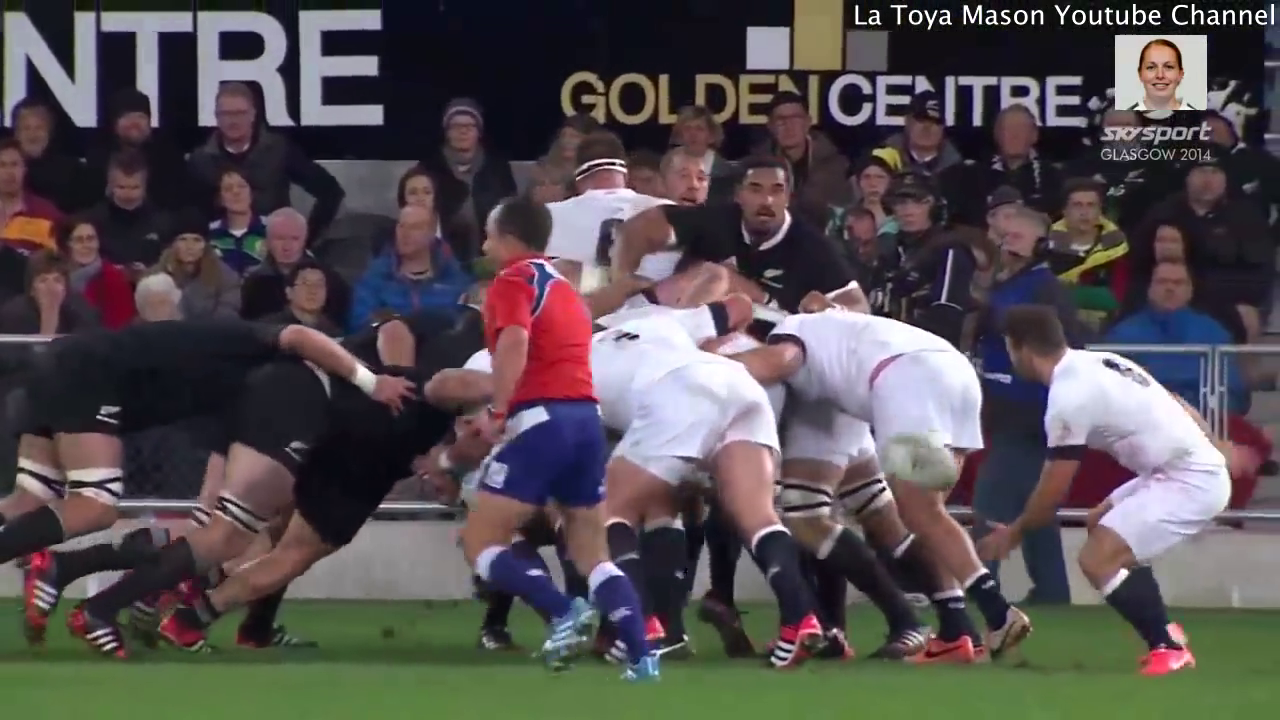ball: (870, 422, 970, 499)
player: (455, 201, 679, 695), (761, 307, 1037, 661), (988, 306, 1245, 686), (1, 309, 289, 554), (657, 161, 851, 288)
scrum: (56, 268, 1069, 683)
